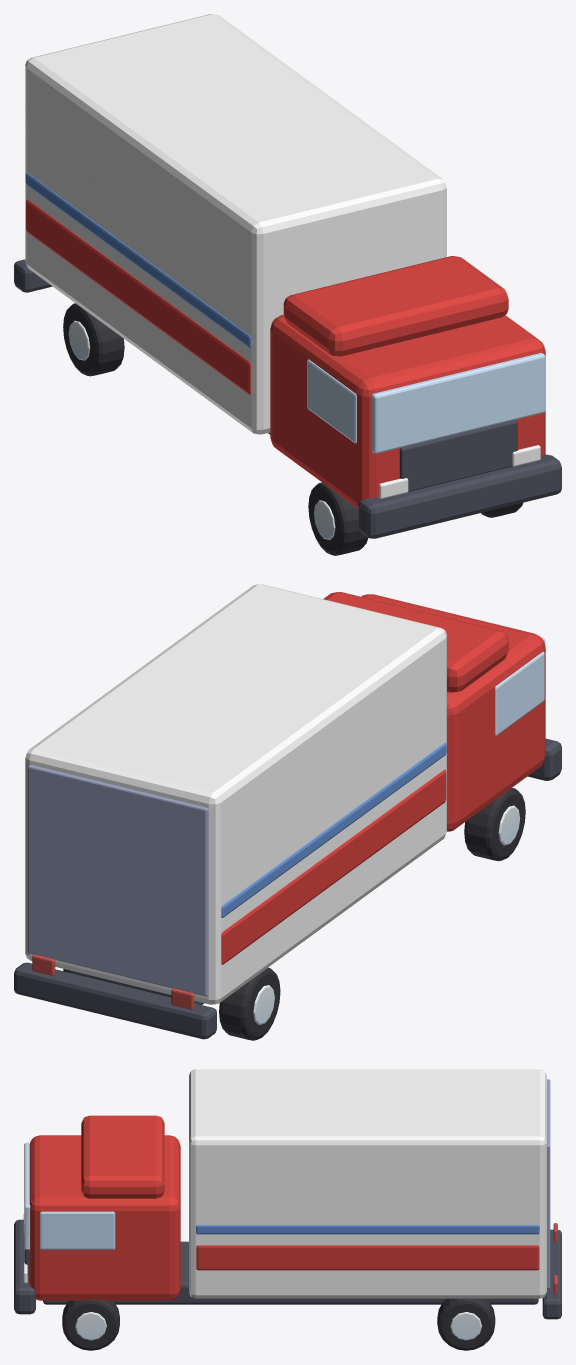
Rendered from toy-lorry.glb.
3 renders of one model, top to bottom at view 1: azimuth 30°, elevation 25°; view 2: azimuth 150°, elevation 25°; view 3: azimuth 270°, elevation 25°, orthographic. The views are drawn at different scales.
Parts seen in each view (by area): view 1: body, wheel-back-right.001, wheel-front-right.001; view 2: body, wheel-front-right.001, wheel-back-right.001; view 3: body, wheel-back-left.001, wheel-front-left.001.
Boxes of the visible parts, x1,y1,x2,y2 form: body: (14, 14, 561, 538); wheel-back-right.001: (63, 303, 124, 376); wheel-front-right.001: (308, 482, 368, 555); body: (14, 584, 561, 1039); wheel-front-right.001: (464, 788, 525, 861); wheel-back-right.001: (219, 967, 280, 1040); body: (14, 1069, 561, 1319); wheel-back-left.001: (437, 1298, 495, 1350); wheel-front-left.001: (62, 1299, 119, 1350).
Size of the model in its own units: 1.81 by 2.46 by 5.69.
1 material, 1 textured.
